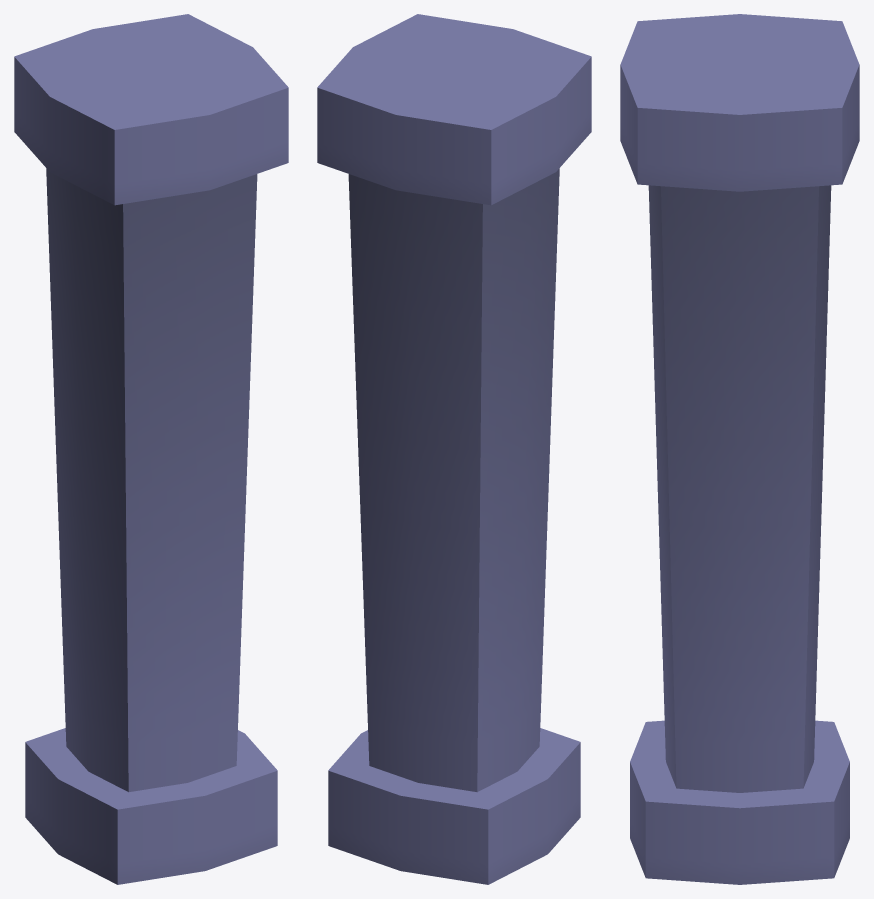
Rendered from Pillar-nobase.fbx.
3 renders of one model, left to right at view 1: azimuth 30°, elevation 25°; view 2: azimuth 150°, elevation 25°; view 3: azimuth 270°, elevation 25°, orthographic.
Parts seen in each view (by area): view 1: pillar; view 2: pillar; view 3: pillar.
Part boxes in pixels (x1,y1,x2,y2): pillar: [14, 14, 288, 884]; pillar: [317, 14, 591, 884]; pillar: [620, 14, 859, 884].
Size of the model in its own units: 45.15 by 161 by 45.15.
